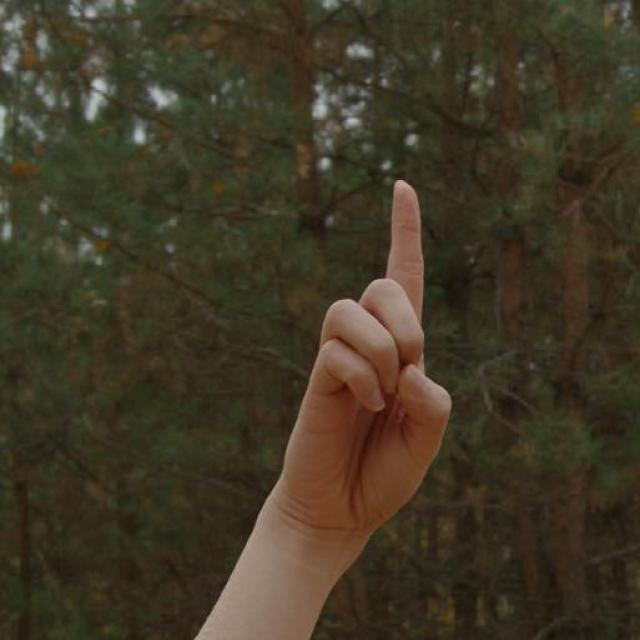D: (259, 167, 466, 538)
